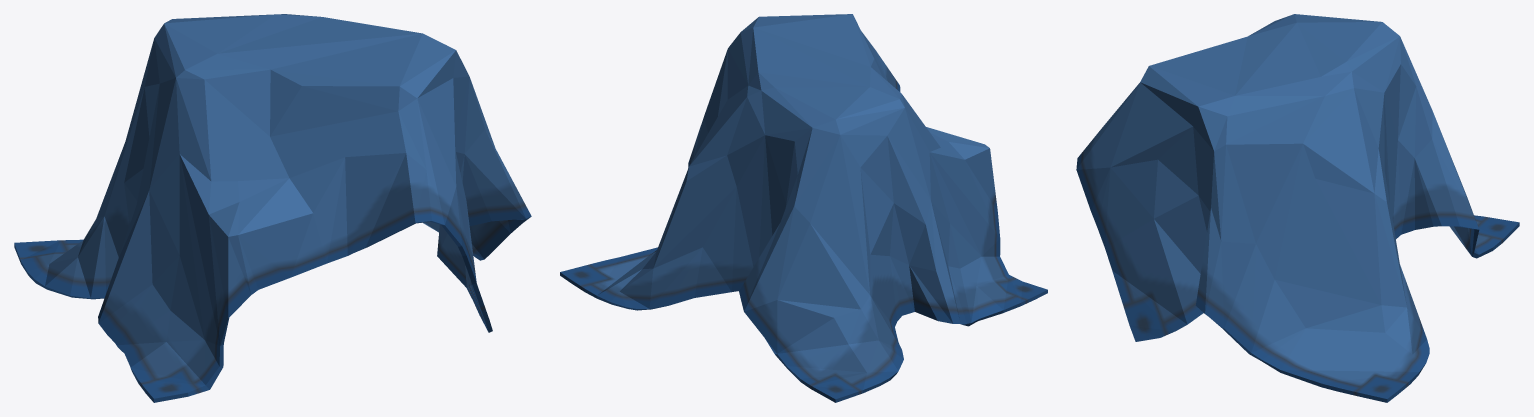
File: SM_Prop_CardboardBox_Stack_03_Tarp.glb
3 renders of one model, left to right at view 1: azimuth 30°, elevation 25°; view 2: azimuth 150°, elevation 25°; view 3: azimuth 270°, elevation 25°, orthographic. The views are drawn at different scales.
Visible parts, largest first — view 1: SM_Prop_CardboardBox_Stack_03_Tarp; view 2: SM_Prop_CardboardBox_Stack_03_Tarp; view 3: SM_Prop_CardboardBox_Stack_03_Tarp.
Part boxes in pixels (box(x1,y1,x2,y2)): SM_Prop_CardboardBox_Stack_03_Tarp: box(14, 14, 531, 402); SM_Prop_CardboardBox_Stack_03_Tarp: box(560, 14, 1047, 402); SM_Prop_CardboardBox_Stack_03_Tarp: box(1076, 14, 1519, 402).
Size of the model in its own units: 2.83 by 1.59 by 2.63.
1 material, 1 textured.
